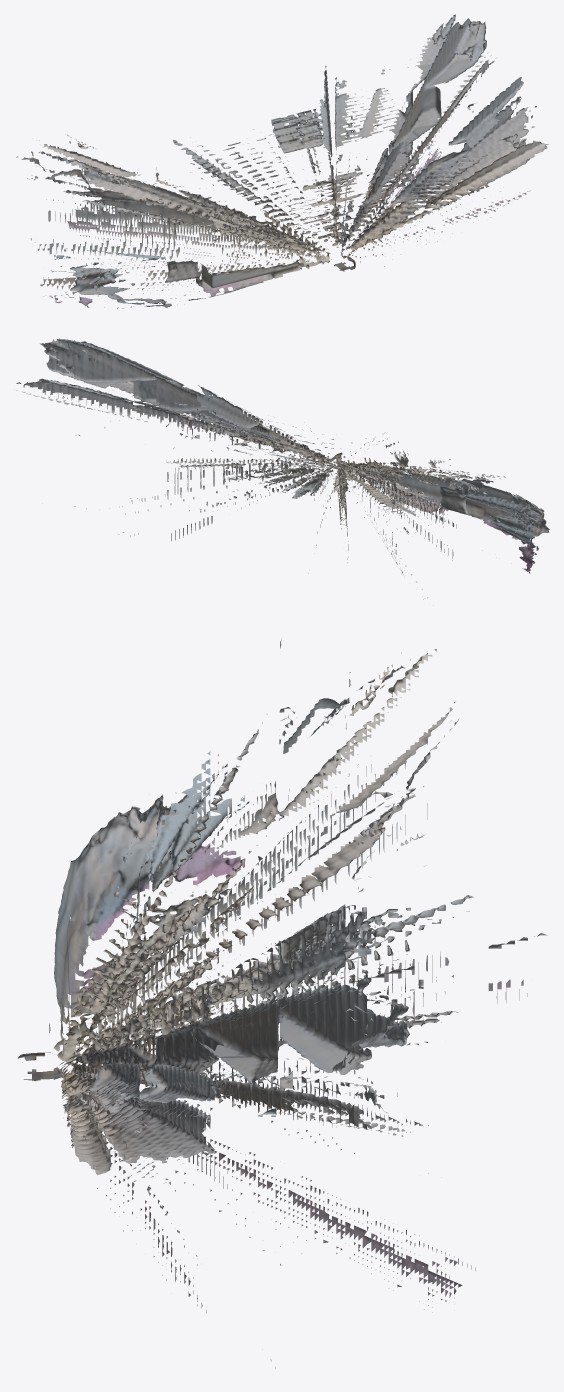
File: gen-1.glb
The picture shows the model from 3 angles, top to bottom: view 1: azimuth 30°, elevation 25°; view 2: azimuth 150°, elevation 25°; view 3: azimuth 270°, elevation 25°; orthographic projection. The views are drawn at different scales.
Visible parts, largest first — view 1: world; view 2: world; view 3: world.
Boxes of the visible parts, x1,y1,x2,y2 form: world: (16, 14, 548, 308); world: (14, 338, 549, 605); world: (17, 638, 547, 1368).
Bounding box in the file's own units: 128 × 52.44 × 61.54.
